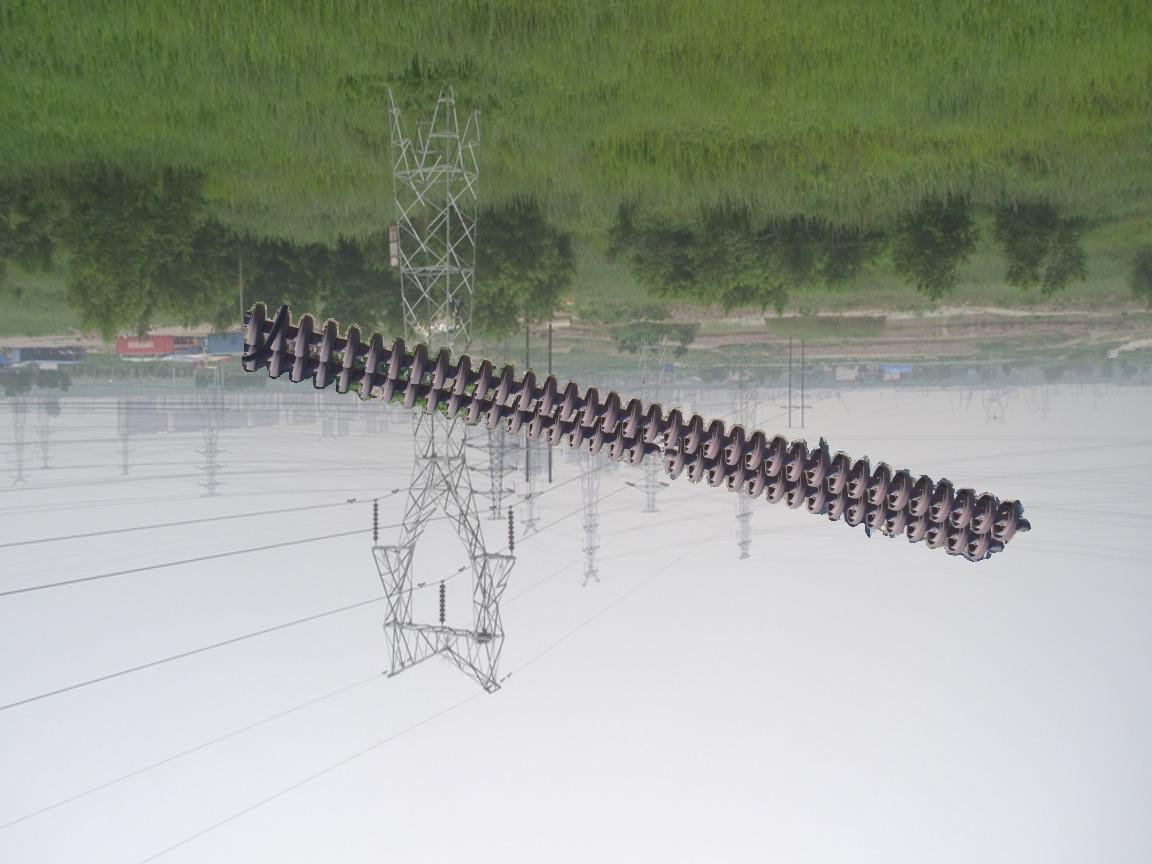insulator: (237, 296, 1040, 566)
insulator_stringdrop: (625, 429, 688, 483)
